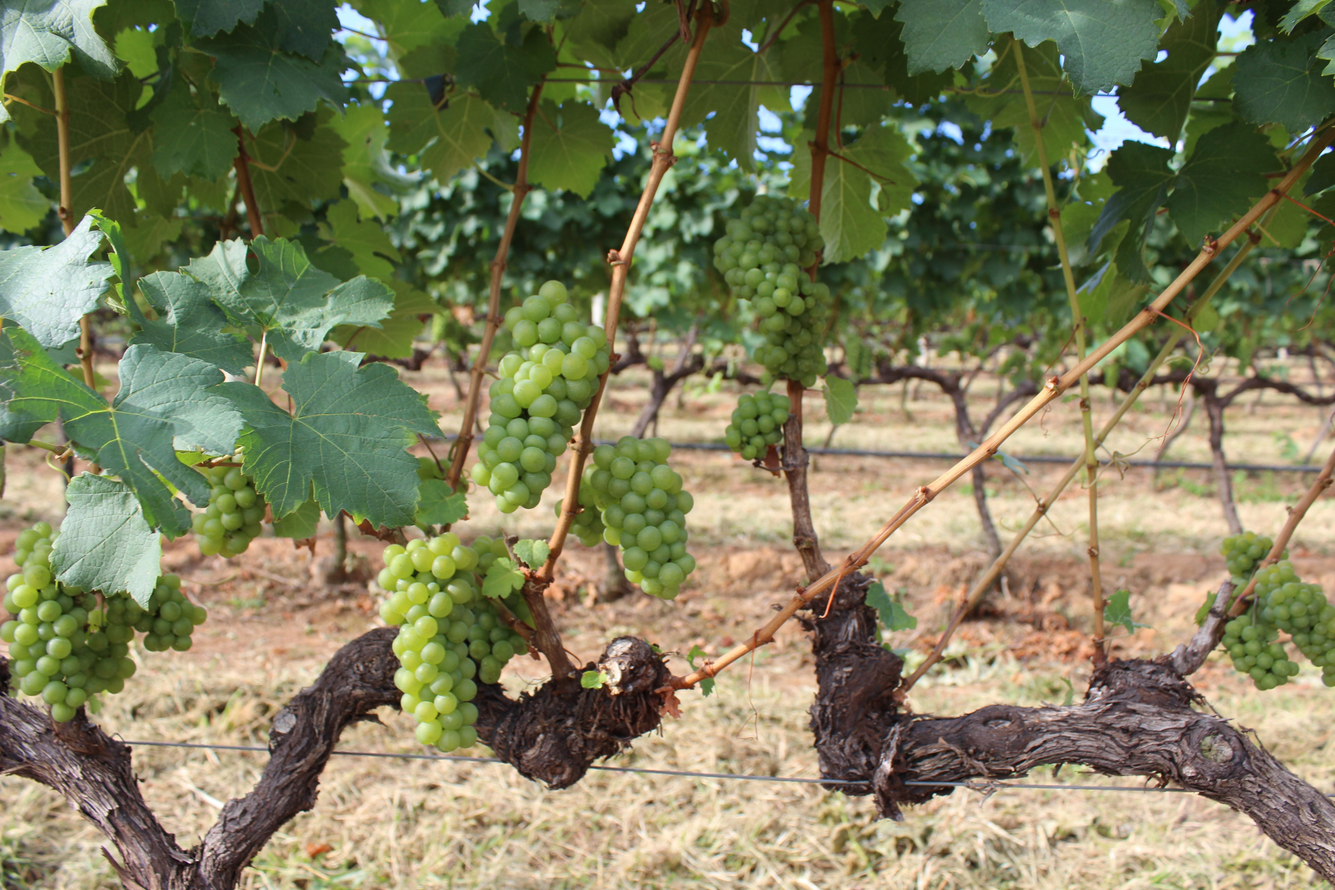leaf: (0, 328, 241, 536), (220, 352, 438, 527), (186, 236, 394, 362), (197, 18, 349, 131), (980, 0, 1161, 93), (0, 217, 113, 348), (51, 473, 161, 607), (1117, 4, 1219, 142), (1167, 122, 1279, 246), (127, 272, 254, 374), (1088, 141, 1173, 283), (387, 83, 495, 184), (246, 106, 347, 213), (1233, 33, 1335, 132), (0, 0, 119, 83), (453, 22, 556, 112), (151, 81, 237, 180), (528, 101, 615, 198), (895, 0, 990, 74), (0, 140, 51, 232), (175, 0, 264, 37), (416, 479, 468, 525), (1103, 589, 1149, 633), (273, 498, 320, 540), (482, 557, 525, 598), (823, 375, 857, 425), (514, 539, 550, 567), (0, 105, 10, 121), (306, 118, 309, 119)
